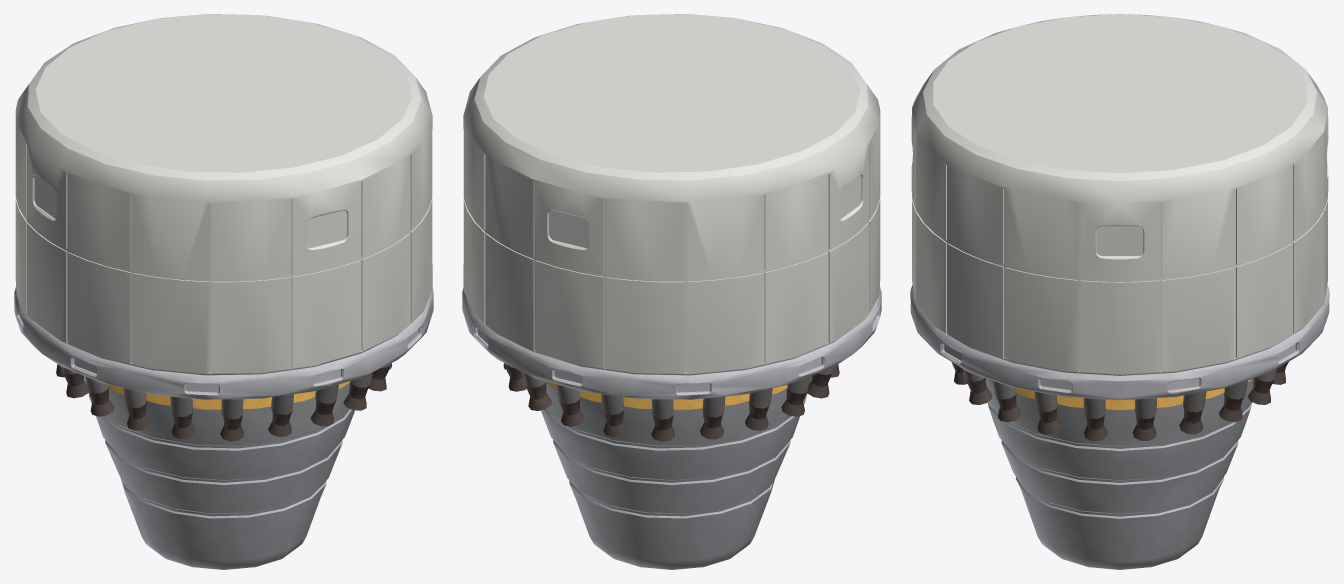
Rendered from ax_prop_03_aerospike_booster.glb.
3 views of the same model, side by side, from view 1: azimuth 30°, elevation 25°; view 2: azimuth 150°, elevation 25°; view 3: azimuth 270°, elevation 25° (orthographic).
Visible parts, largest first — view 1: aeroshell, plug, base_skirt, chamber_throats, chambers, mli_collar; view 2: aeroshell, plug, base_skirt, chamber_throats, chambers, mli_collar; view 3: aeroshell, plug, base_skirt, chamber_throats, chambers, mli_collar.
Part boxes in pixels (x1,y1,x2,y2): aeroshell: [15, 14, 432, 375]; plug: [84, 376, 354, 569]; base_skirt: [14, 287, 433, 399]; chamber_throats: [56, 363, 391, 441]; chambers: [61, 363, 391, 419]; mli_collar: [108, 381, 350, 409]; aeroshell: [463, 14, 880, 375]; plug: [541, 376, 811, 569]; base_skirt: [462, 287, 881, 399]; chamber_throats: [503, 363, 839, 441]; chambers: [504, 363, 834, 419]; mli_collar: [546, 381, 787, 409]; aeroshell: [911, 14, 1328, 375]; plug: [985, 378, 1253, 569]; base_skirt: [910, 285, 1329, 400]; chamber_throats: [951, 362, 1288, 440]; chambers: [963, 369, 1276, 418]; mli_collar: [988, 379, 1251, 410].
Size of the model in its own units: 3.77 by 4.4 by 3.77.
Materials: 6 (4 with a texture image).
